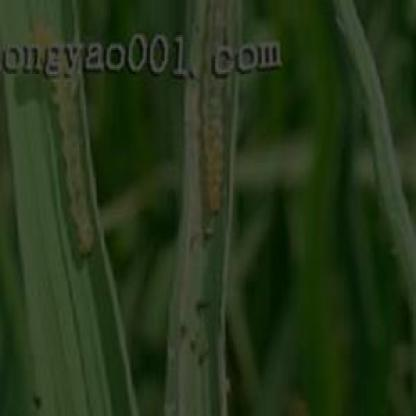leaf-folder: (40, 88, 108, 274), (184, 92, 240, 220)
